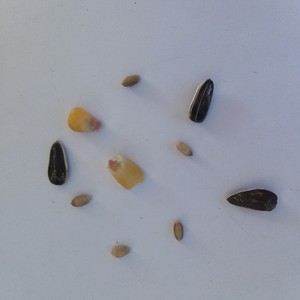girasol: (221, 185, 279, 215), (185, 76, 218, 125), (42, 138, 74, 188)
maiz: (102, 150, 149, 191), (65, 103, 105, 138)
trigo: (107, 241, 134, 263), (171, 218, 190, 246), (173, 139, 195, 162), (119, 71, 142, 89), (70, 193, 92, 209)
